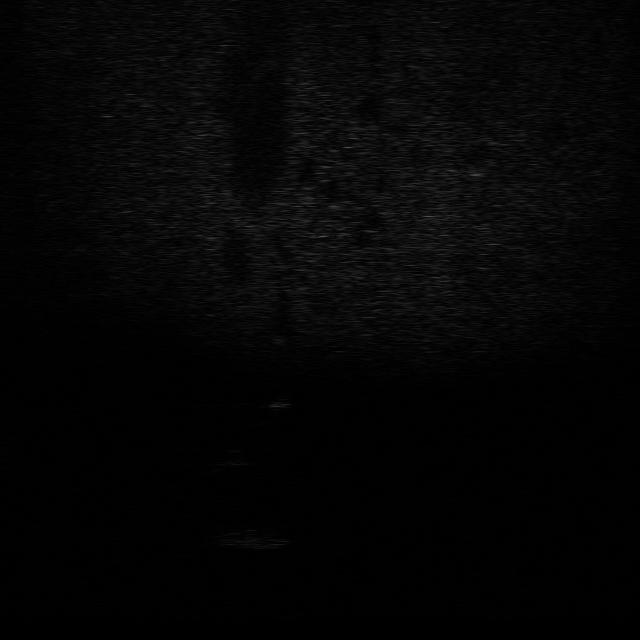ball: (208, 447, 254, 468)
circle cage: (208, 524, 298, 554)
human body: (250, 381, 296, 428)
